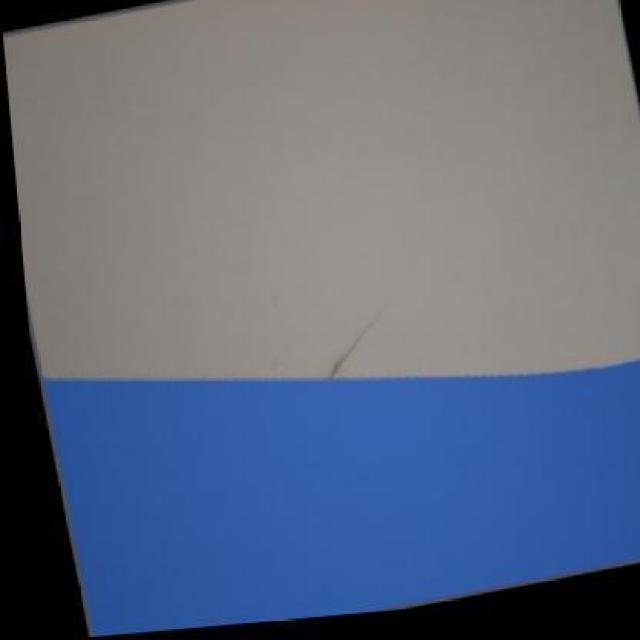Crack: (309, 313, 388, 389)
